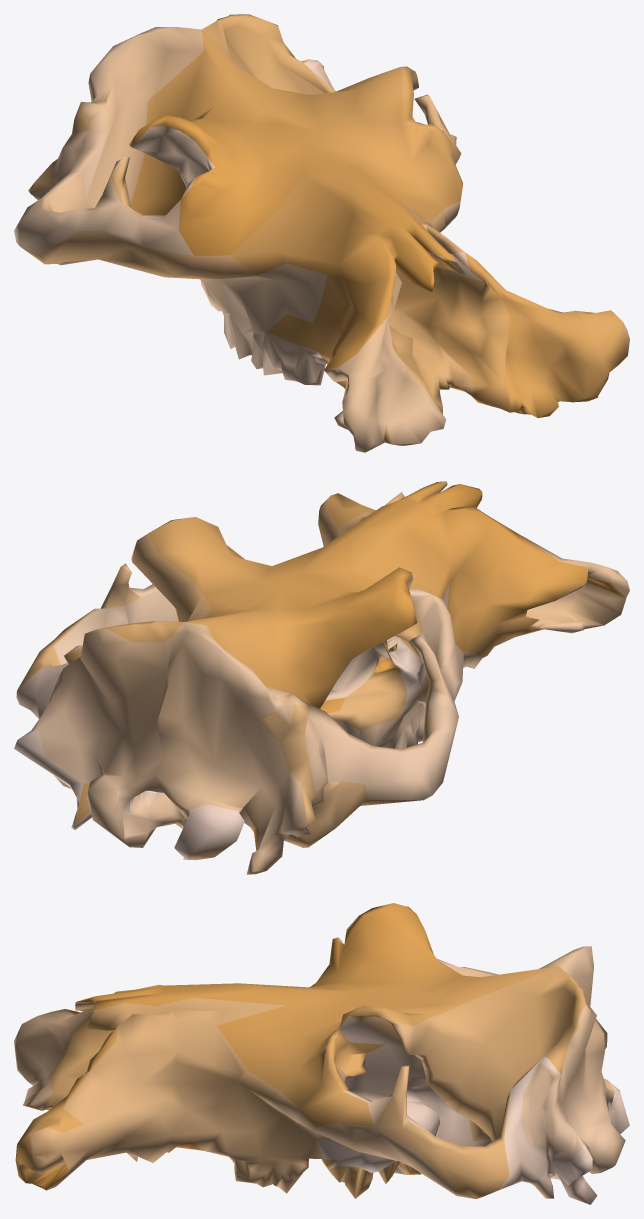
The model's file is Fossil1.fbx.
The picture shows the model from 3 angles, top to bottom: view 1: azimuth 30°, elevation 25°; view 2: azimuth 150°, elevation 25°; view 3: azimuth 270°, elevation 25°; orthographic projection. The views are drawn at different scales.
Parts seen in each view (by area): view 1: wk5iect_LOD0_TIER3_000; view 2: wk5iect_LOD0_TIER3_000; view 3: wk5iect_LOD0_TIER3_000.
Boxes of the visible parts, x1,y1,x2,y2 form: wk5iect_LOD0_TIER3_000: (14,14,629,452); wk5iect_LOD0_TIER3_000: (14,481,629,874); wk5iect_LOD0_TIER3_000: (14,903,629,1204).
Size of the model in its own units: 40.92 by 22.26 by 57.38.
